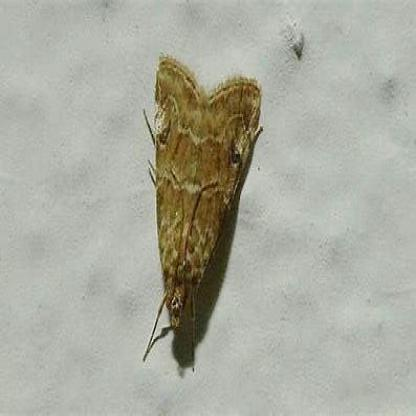Hellula undalis: (140, 43, 263, 373)
